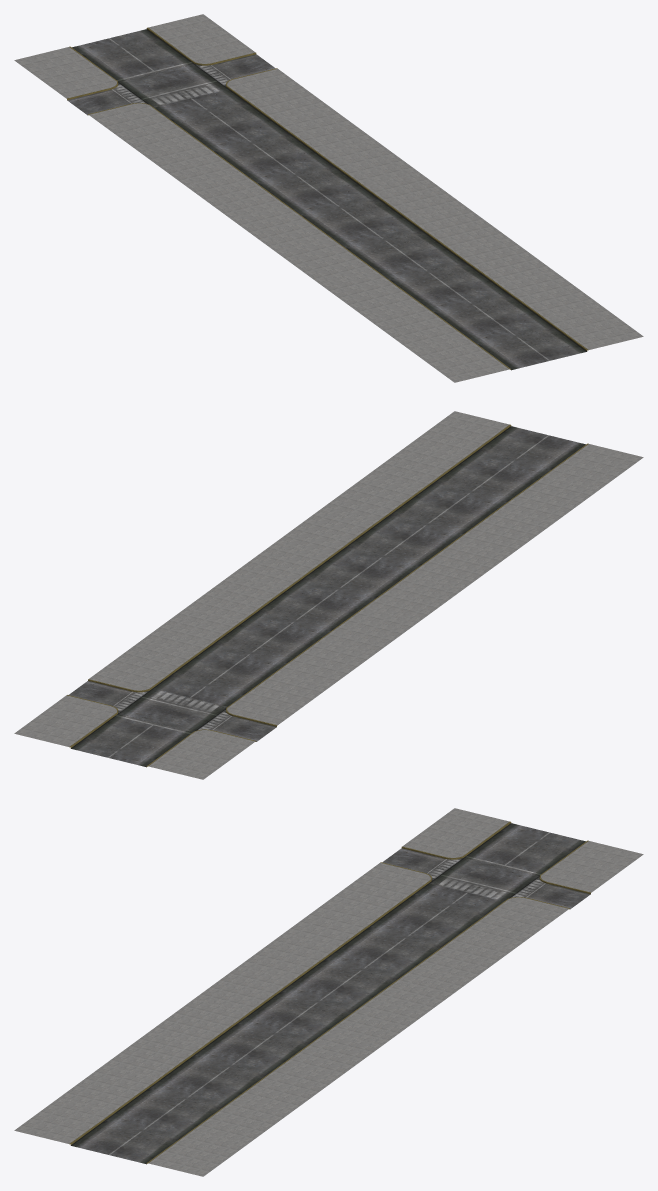
File: street.FBX
3 renders of one model, top to bottom at view 1: azimuth 30°, elevation 25°; view 2: azimuth 150°, elevation 25°; view 3: azimuth 330°, elevation 25°, orthographic.
Visible parts, largest first — view 1: Object007; view 2: Object007; view 3: Object007.
Part boxes in pixels (left/top/right/bottom): Object007: left=14, top=14, right=643, bottom=382; Object007: left=14, top=411, right=643, bottom=779; Object007: left=14, top=808, right=643, bottom=1176.
Bounding box in the file's own units: 221 × 1.35 × 892.
Materials: 5 (5 with a texture image).
